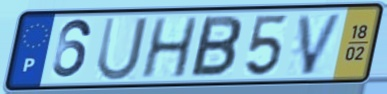5: (244, 13, 290, 78)
6: (51, 17, 94, 83)
B: (187, 14, 245, 79)
H: (138, 15, 201, 81)
U: (94, 15, 151, 83)
V: (296, 11, 347, 77)
